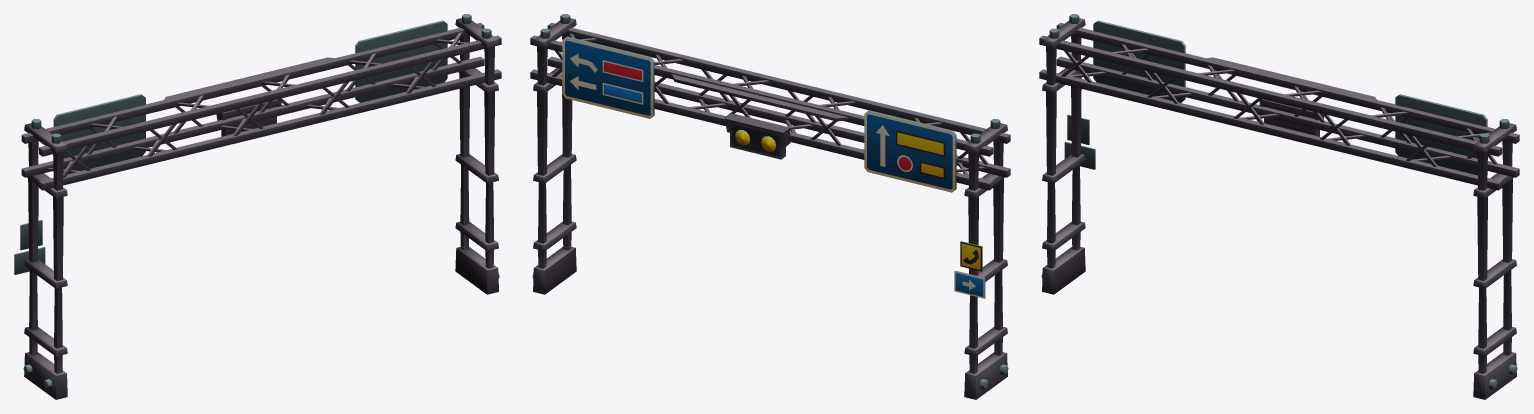
File: Highway_Streetsign_1D.fbx
3 views of the same model, side by side, from view 1: azimuth 30°, elevation 25°; view 2: azimuth 150°, elevation 25°; view 3: azimuth 330°, elevation 25° (orthographic).
Visible parts, largest first — view 1: Highway_Streetsign_1D; view 2: Highway_Streetsign_1D; view 3: Highway_Streetsign_1D.
Part boxes in pixels (box(x1,y1,x2,y2)): Highway_Streetsign_1D: box(14, 14, 501, 399); Highway_Streetsign_1D: box(530, 14, 1010, 399); Highway_Streetsign_1D: box(1039, 14, 1519, 399).
Bounding box in the file's own units: 2135 × 1146 × 262.
